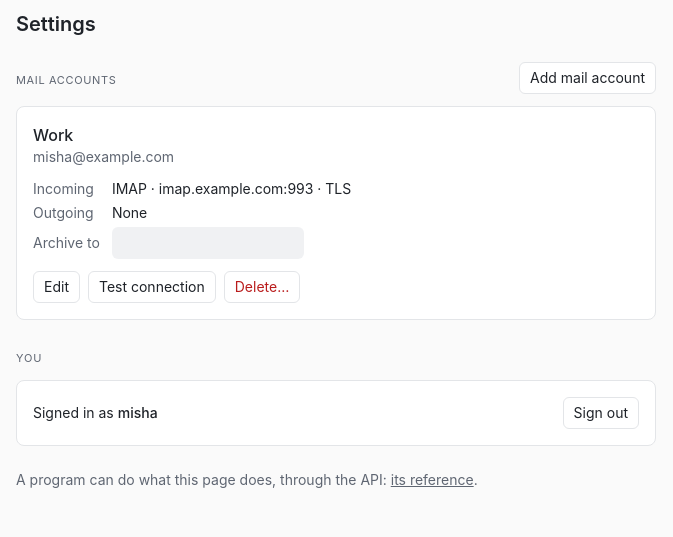
Test: settings › tests a saved config with its saved passwords
Click the button "Test connection". click: (152, 287)
box: [88, 271, 216, 303]
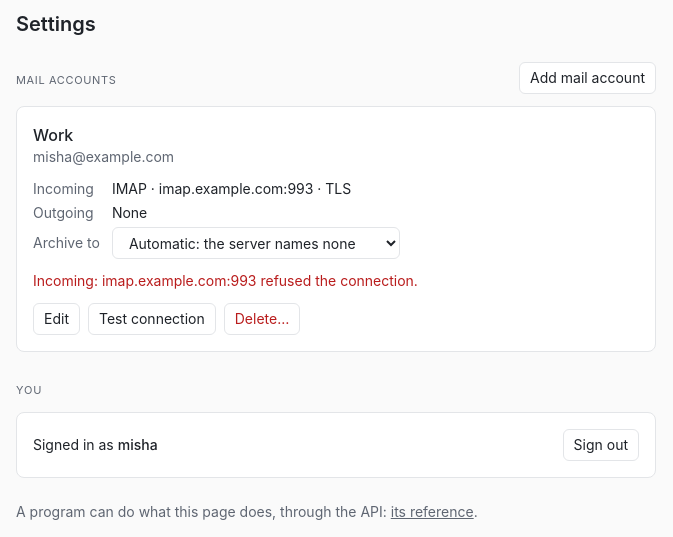
Expected: the list item "Incoming: imap.example.com:993 refused the connection." is shown, [33, 272, 418, 289]
